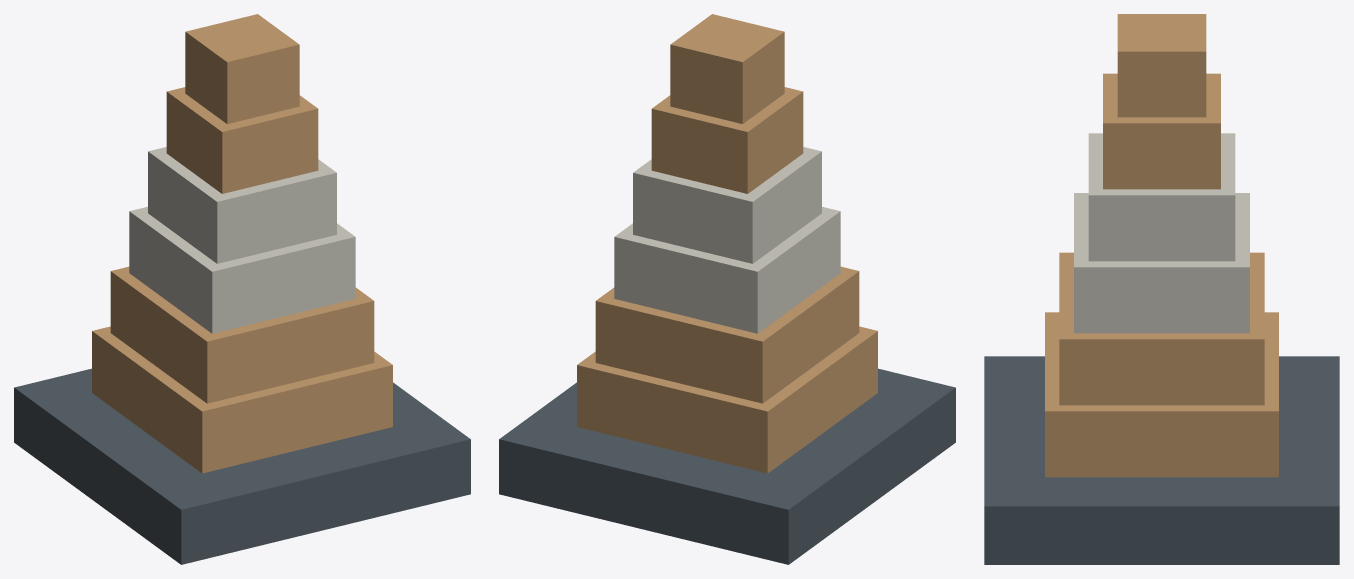
The model's file is road_cone.glb.
3 views of the same model, side by side, from view 1: azimuth 30°, elevation 25°; view 2: azimuth 150°, elevation 25°; view 3: azimuth 270°, elevation 25° (orthographic). The views are drawn at different scales.
Visible parts, largest first — view 1: body; view 2: body; view 3: body.
Boxes of the visible parts, x1,y1,x2,y2 form: body: (14,14,470,564); body: (499,14,955,564); body: (984,14,1339,564).
Bounding box in the file's own units: 0.44 × 0.625 × 0.44.
